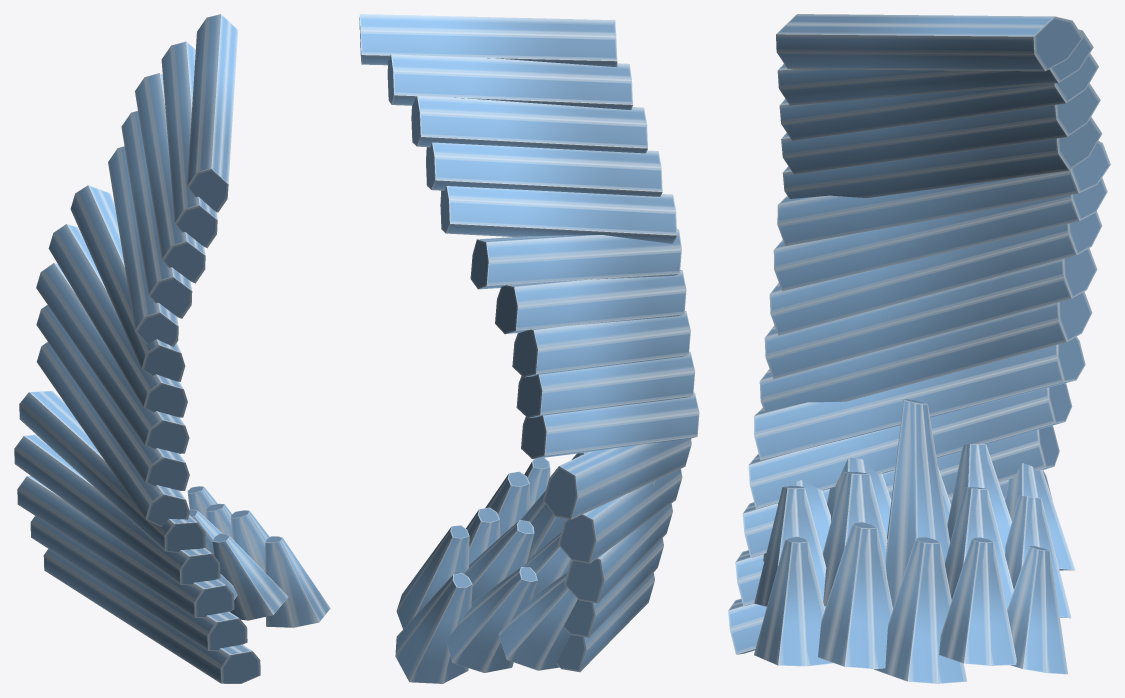
The model's file is wall_spike_04.fbx.
3 renders of one model, left to right at view 1: azimuth 30°, elevation 25°; view 2: azimuth 150°, elevation 25°; view 3: azimuth 270°, elevation 25°, orthographic. The views are drawn at different scales.
Visible parts, largest first — view 1: wall_spike_04; view 2: wall_spike_04; view 3: wall_spike_04.
Boxes of the visible parts, <box> form: wall_spike_04: <box>14,14,330,683</box>; wall_spike_04: <box>359,14,699,683</box>; wall_spike_04: <box>728,14,1110,683</box>.
Size of the model in its own units: 1.04 by 2.59 by 1.28.
1 material, 1 textured.
